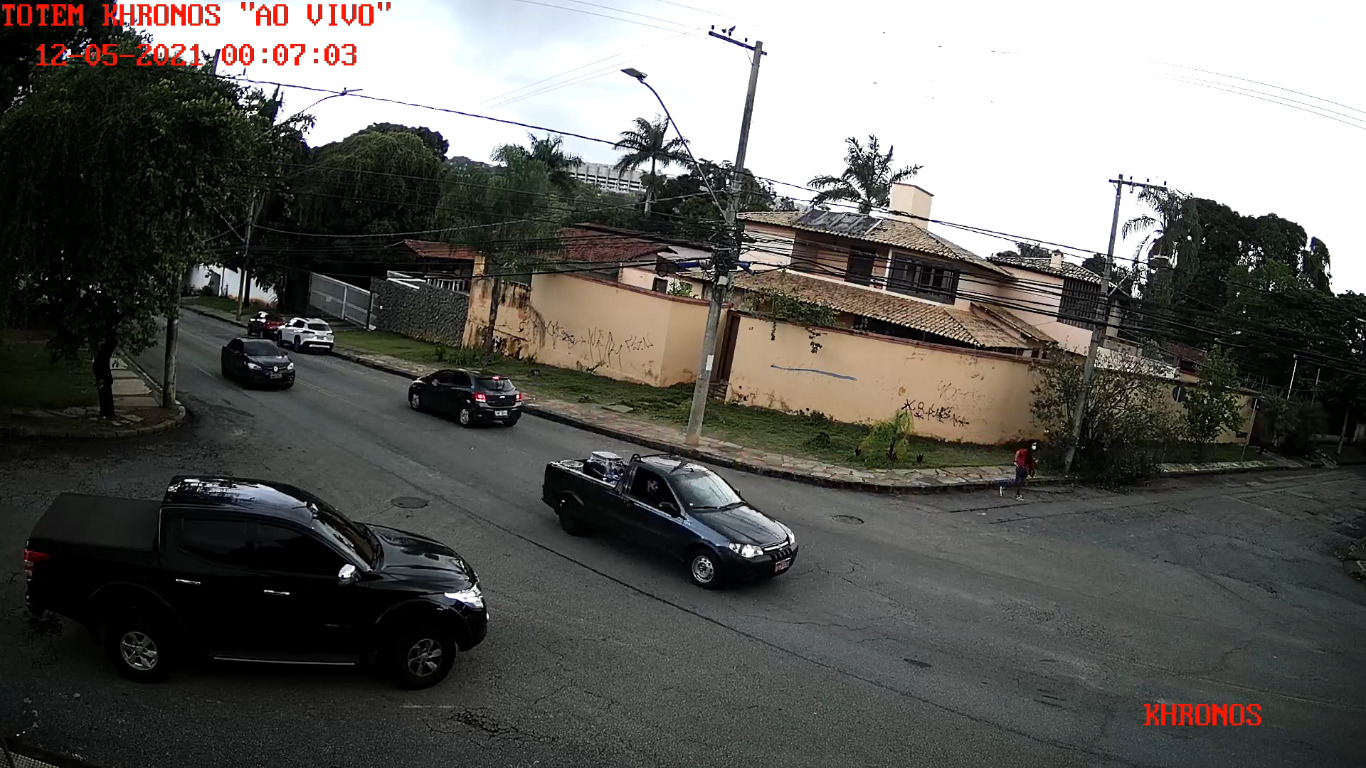car: (23, 473, 490, 688), (544, 446, 797, 592)
